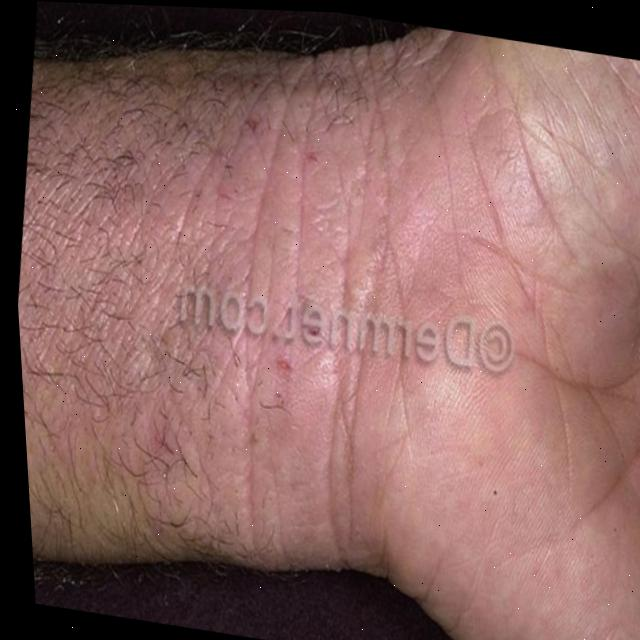Eczema: (6, 93, 450, 495)
